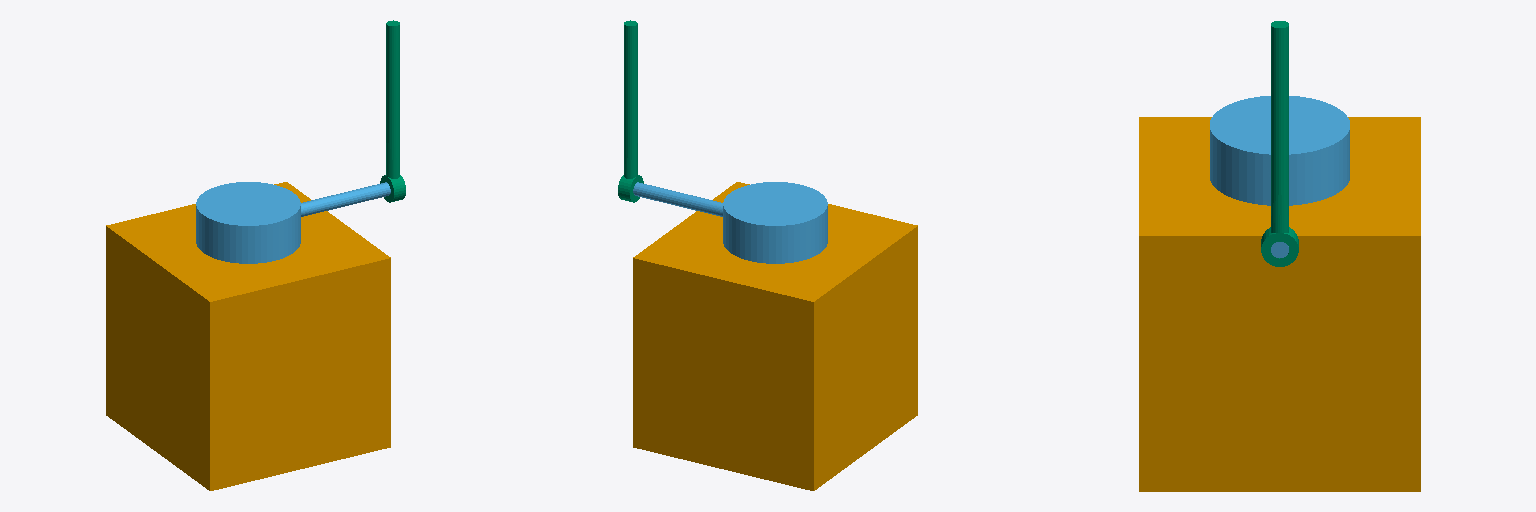
URDF robot description (rotary_pendulum_v5):
<?xml version="1.0" ?>
<robot name="rotary_pendulum_v5">

<material name="red">
  <color rgba="1 0 0 1.000"/>
</material>

<material name="green">
  <color rgba="0 1 00 1.000"/>
</material>

<material name="blue">
  <color rgba="0 0 1 1.000"/>
</material>

<material name="silver">
  <color rgba="0.700 0.700 0.700 1.000"/>
</material>

<link name="base_link">
  <inertial>
    <origin xyz="0.0 0.0 0.15000000000000002" rpy="0 0 0"/>
    <mass value="211.95000000000002"/>
    <inertia ixx="3.179249999999999" iyy="3.179249999999999" izz="3.1792499999999997" ixy="0.0" iyz="0.0" ixz="0.0"/>
  </inertial>
  <visual>
    <origin xyz="0 0 0" rpy="0 0 0"/>
    <geometry>
      <mesh filename="meshes/base_link.stl" scale="0.001 0.001 0.001"/>
    </geometry>
    <material name="red"/>
    <material/>
  </visual>
  <collision>
    <origin xyz="0 0 0" rpy="0 0 0"/>
    <geometry>
      <mesh filename="meshes/base_link.stl" scale="0.001 0.001 0.001"/>
    </geometry>
  </collision>
</link>

<link name="rotary_link1">
  <inertial>
    <origin xyz="0.008013705761337671 -1.6309157073718057e-17 0.030000000000000082" rpy="0 0 0"/>
    <mass value="8.755245138233084"/>
    <inertia ixx="0.014223163597166022" iyy="0.026150131302430935" izz="0.03535774814593225" ixy="-1.2567535854514075e-17" iyz="-3.569766704458744e-17" ixz="-3.8163916471489756e-17"/>
  </inertial>
  <visual>
    <origin xyz="-0.0 -0.0 -0.3" rpy="0 0 0"/>
    <geometry>
      <mesh filename="meshes/rotary_link1.stl" scale="0.001 0.001 0.001"/>
    </geometry>
    <material name="silver"/>
    <material/>
  </visual>
  <collision>
    <origin xyz="-0.0 -0.0 -0.3" rpy="0 0 0"/>
    <geometry>
      <mesh filename="meshes/rotary_link1.stl" scale="0.001 0.001 0.001"/>
    </geometry>
  </collision>
</link>

<link name="pendulum_link1">
  <inertial>
    <origin xyz="-0.009999999999999926 -3.9119026865169275e-17 0.11180084116382871" rpy="0 0 0"/>
    <mass value="0.7414385478886268"/>
    <inertia ixx="0.005226682201548649" iyy="0.005213064334280343" izz="5.31289244029981e-05" ixy="-6.470202151831489e-19" iyz="-2.4618247609762185e-18" ixz="1.3877787807814457e-17"/>
  </inertial>
  <visual>
    <origin xyz="-0.25 -0.0 -0.33" rpy="0 0 0"/>
    <geometry>
      <mesh filename="meshes/pendulum_link1.stl" scale="0.001 0.001 0.001"/>
    </geometry>
    <material name="blue"/>
    <material/>
  </visual>
  <collision>
    <origin xyz="-0.25 -0.0 -0.33" rpy="0 0 0"/>
    <geometry>
      <mesh filename="meshes/pendulum_link1.stl" scale="0.001 0.001 0.001"/>
    </geometry>
  </collision>
</link>

<joint name="Revolute_1" type="continuous">
  <origin xyz="0.0 0.0 0.3" rpy="0 0 0"/>
  <parent link="base_link"/>
  <child link="rotary_link1"/>
  <axis xyz="0.0 0.0 1.0"/>
</joint>
<transmission name="Revolute_1_tran">
  <type>transmission_interface/SimpleTransmission</type>
  <joint name="Revolute_1">
    <hardwareInterface>PositionJointInterface</hardwareInterface>
  </joint>
  <actuator name="Revolute_1_actr">
    <hardwareInterface>PositionJointInterface</hardwareInterface>
    <mechanicalReduction>1</mechanicalReduction>
  </actuator>
</transmission>

<!-- <joint name="Revolute_2" type="continuous"> -->
<joint name="Revolute_2" type="revolute">
  <origin xyz="0.25 0.0 0.03" rpy="0 0 0"/>
  <parent link="rotary_link1"/>
  <child link="pendulum_link1"/>
  <axis xyz="1.0 0.0 0.0"/>
  <!-- <limit effort="100000" velocity="0.0001"/> -->
  <limit effort="0.000001" velocity="0.000001" lower="-0.77" upper="0.77" />
</joint>
<transmission name="Revolute_2_tran">
  <type>transmission_interface/SimpleTransmission</type>
  <joint name="Revolute_2">
    <hardwareInterface>PositionJointInterface</hardwareInterface>
  </joint>
  <actuator name="Revolute_2_actr">
    <hardwareInterface>PositionJointInterface</hardwareInterface>
    <mechanicalReduction>1</mechanicalReduction>
  </actuator>
</transmission>

</robot>

--- Facts derived from the render (not from the file) ---
3 views of the same robot in one strip: view 1: azimuth 30°, elevation 25°; view 2: azimuth 150°, elevation 25°; view 3: azimuth 270°, elevation 25° (orthographic).
Model rotary_pendulum_v5 with 3 links and 2 joints (1 revolute, 1 continuous), rooted at base_link, posed every joint at zero.
Links seen in each view (by area): view 1: base_link, rotary_link1, pendulum_link1; view 2: base_link, rotary_link1, pendulum_link1; view 3: base_link, rotary_link1, pendulum_link1.
Boxes of the visible links, x1,y1,x2,y2 form: base_link: (106,182,390,490); rotary_link1: (196,182,390,263); pendulum_link1: (380,20,405,202); base_link: (633,182,917,490); rotary_link1: (633,182,827,263); pendulum_link1: (618,20,643,202); base_link: (1139,117,1420,491); rotary_link1: (1210,96,1349,257); pendulum_link1: (1261,21,1298,266).
Size in the robot's own frame: 0.4 by 0.3 by 0.59 metres.
Meshes: 3 distinct files referenced, 3 mesh visuals loaded (3 binary STL).